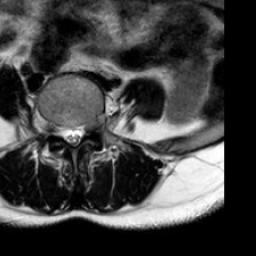CCS_stenosis: (69, 114, 77, 155)
LFS_normal: (86, 107, 97, 139)
LLS_normal: (77, 113, 86, 148)
RFS_normal: (49, 110, 60, 146)
RLS_normal: (60, 113, 69, 150)
